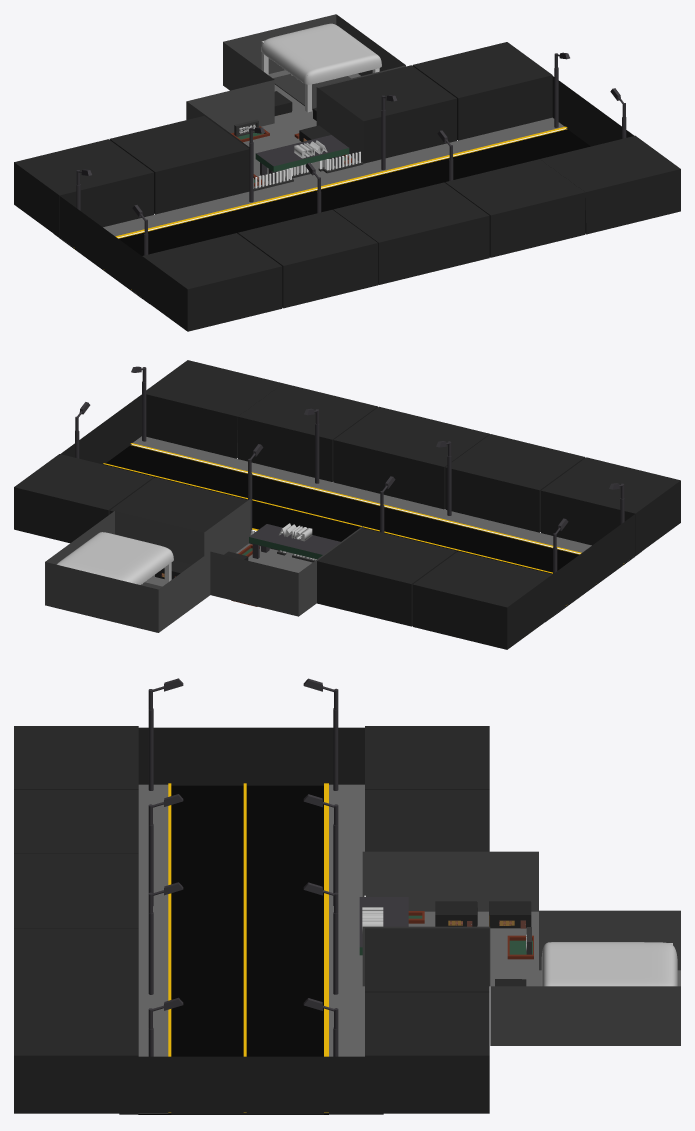
File: Esima.fbx
3 views of the same model, one above another, from view 1: azimuth 30°, elevation 25°; view 2: azimuth 150°, elevation 25°; view 3: azimuth 270°, elevation 25° (orthographic). The views are drawn at different scales.
Parts seen in each view (by area): view 1: Calle, Edificio1.006, Edificio1.008, Edificio1.002, paredpatio, Edificio1.004, Edificio1.007, Edificio1.003, Edificio1.005, Edificio1.001, Edificio1, Banquetas (+10 smaller); view 2: paredpatio, Calle, Edificio1.002, Edificio1.008, Edificio1.006, Edificio1.003, Edificio1.007, Edificio1.005, Edificio1.004, Edificio1.001, Banquetas, Edificio1 (+8 smaller); view 3: Calle, paredpatio, Banquetas, Edificio1.010, Edificio1.005, Edificio1.001, Edificio1.009, Edificio1.008, Edificio1, Edificio1.002, Edificio1.004, Edificio1.006 (+14 smaller).
Part boxes in pixels (<box>): Calle: <box>59,129,590,298</box>; Edificio1.006: <box>142,233,282,331</box>; Edificio1.008: <box>333,182,489,284</box>; Edificio1.002: <box>14,139,153,237</box>; paredpatio: <box>186,14,405,162</box>; Edificio1.004: <box>445,159,585,257</box>; Edificio1.007: <box>238,209,377,308</box>; Edificio1.003: <box>109,116,249,214</box>; Edificio1.005: <box>540,135,680,234</box>; Edificio1.001: <box>412,42,552,140</box>; Edificio1: <box>318,65,456,163</box>; Banquetas: <box>60,117,564,297</box>; paredpatio: <box>45,499,362,632</box>; Calle: <box>104,445,635,616</box>; Edificio1.002: <box>412,551,552,649</box>; Edificio1.008: <box>333,406,489,509</box>; Edificio1.006: <box>541,457,680,555</box>; Edificio1.003: <box>317,528,456,626</box>; Edificio1.007: <box>445,434,585,532</box>; Edificio1.005: <box>146,360,282,458</box>; Edificio1.004: <box>238,383,377,481</box>; Edificio1.001: <box>14,454,153,543</box>; Banquetas: <box>133,436,634,614</box>; Edificio1: <box>109,477,248,532</box>; Calle: <box>138,785,328,1114</box>; paredpatio: <box>362,851,680,1045</box>; Banquetas: <box>138,784,364,1113</box>; Edificio1.010: <box>119,1056,383,1114</box>; Edificio1.005: <box>14,991,138,1113</box>; Edificio1.001: <box>365,992,489,1113</box>; Edificio1.009: <box>138,727,364,785</box>; Edificio1.008: <box>14,853,138,928</box>; Edificio1: <box>365,928,489,992</box>; Edificio1.002: <box>365,726,489,789</box>; Edificio1.004: <box>14,928,138,991</box>; Edificio1.006: <box>14,726,138,789</box>.
Bounding box in the file's own units: 7160 × 1145 × 6071.
